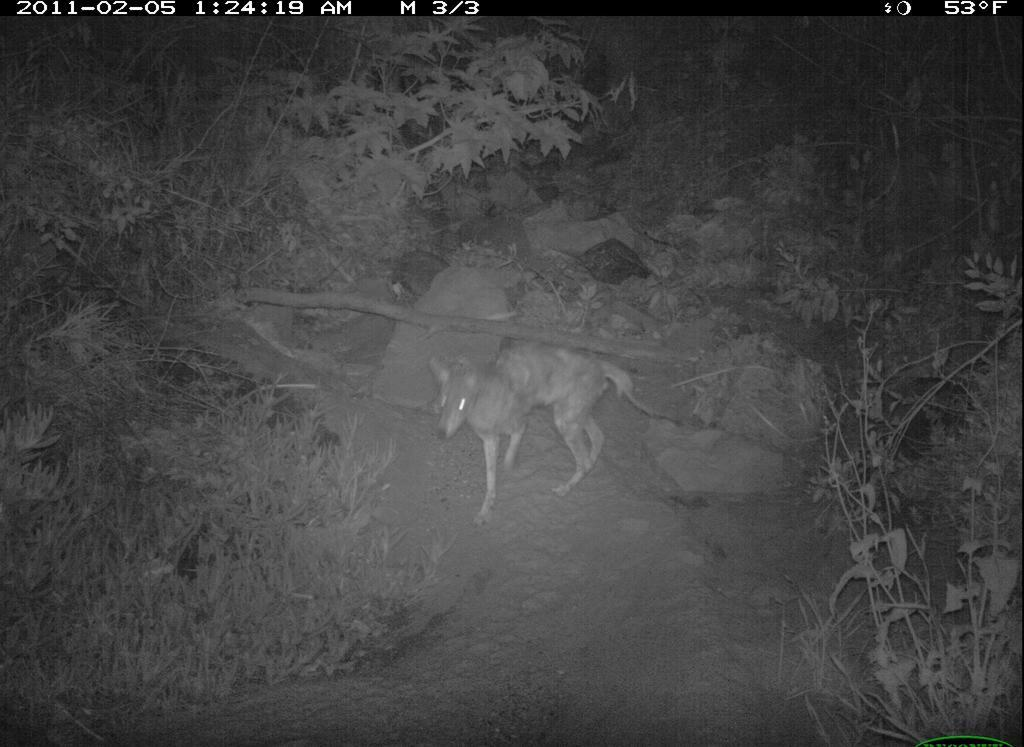coyote: (417, 312, 660, 534)
